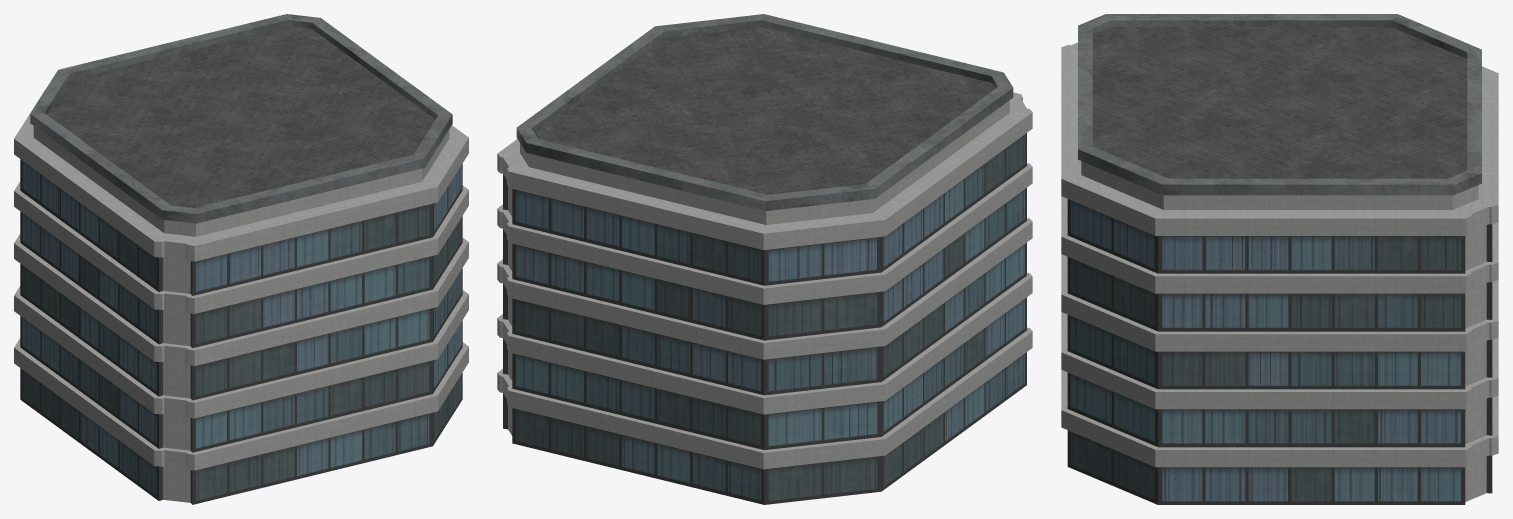
File: jctBld24_C_top_low.fbx
3 renders of one model, left to right at view 1: azimuth 30°, elevation 25°; view 2: azimuth 150°, elevation 25°; view 3: azimuth 270°, elevation 25°, orthographic. The views are drawn at different scales.
Visible parts, largest first — view 1: jctBld24_C_top_low; view 2: jctBld24_C_top_low; view 3: jctBld24_C_top_low.
Boxes of the visible parts, x1=… form: jctBld24_C_top_low: x1=14, y1=14, x2=468, y2=504; jctBld24_C_top_low: x1=497, y1=14, x2=1032, y2=504; jctBld24_C_top_low: x1=1061, y1=14, x2=1498, y2=504.
Size of the model in its own units: 2058 by 1638 by 2058.
